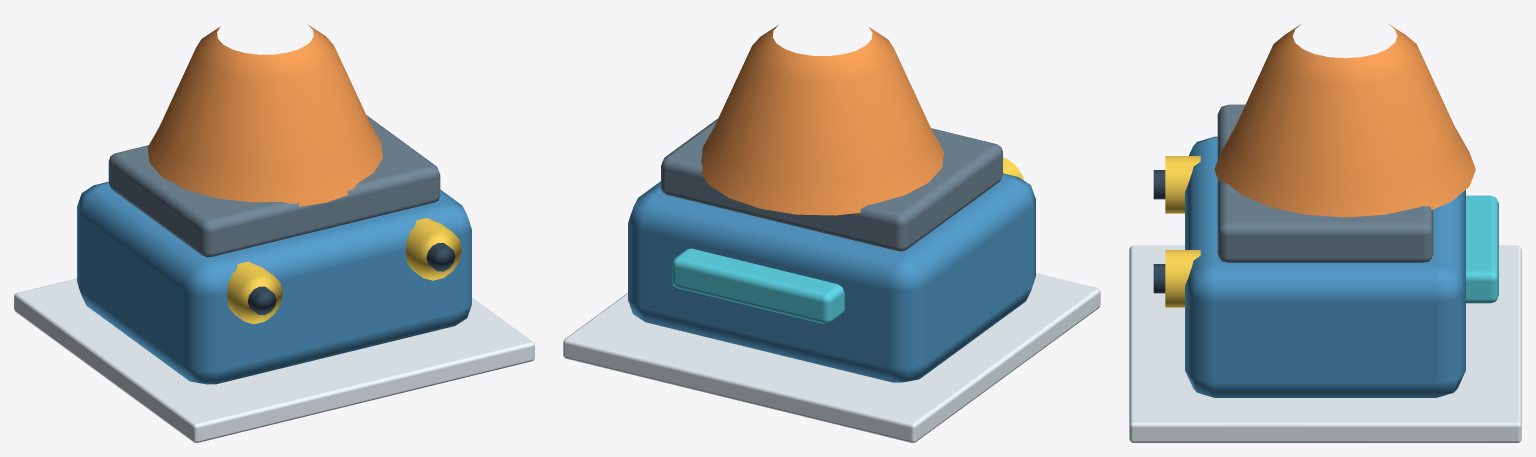
File: intake_machine.glb
The picture shows the model from 3 angles, left to right: view 1: azimuth 30°, elevation 25°; view 2: azimuth 150°, elevation 25°; view 3: azimuth 270°, elevation 25°; orthographic projection. The views are drawn at different scales.
Parts seen in each view (by area): view 1: intake_machine; view 2: intake_machine; view 3: intake_machine.
Part boxes in pixels (bbox=[...]): intake_machine: bbox=[14, 24, 534, 442]; intake_machine: bbox=[563, 25, 1100, 442]; intake_machine: bbox=[1129, 24, 1521, 442].
Size of the model in its own units: 2.6 by 2.15 by 2.4.
